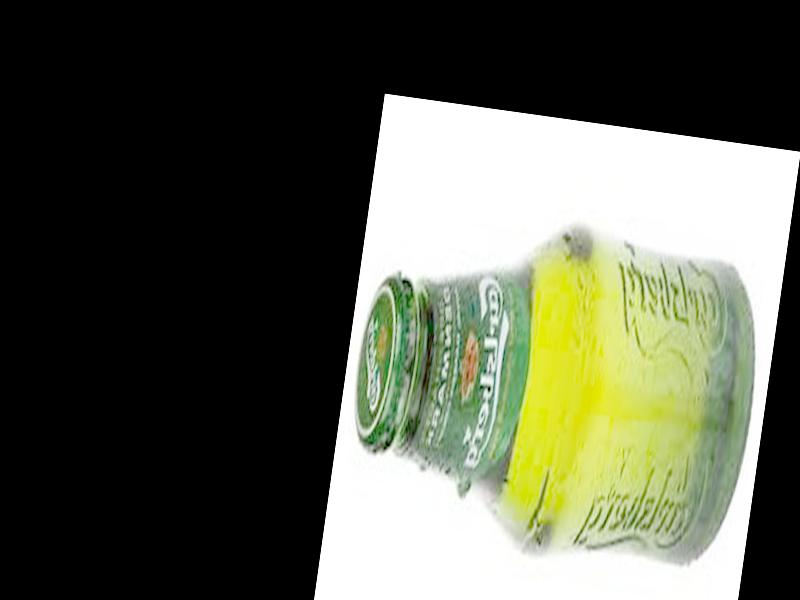Beer: (336, 206, 774, 579)
